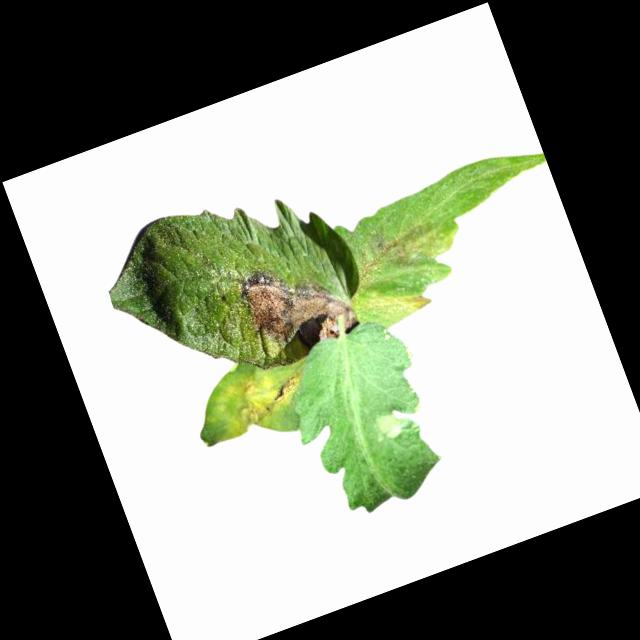Late_blight: (233, 245, 362, 365), (211, 357, 317, 442), (347, 206, 458, 286), (350, 268, 436, 334), (370, 405, 415, 445)
